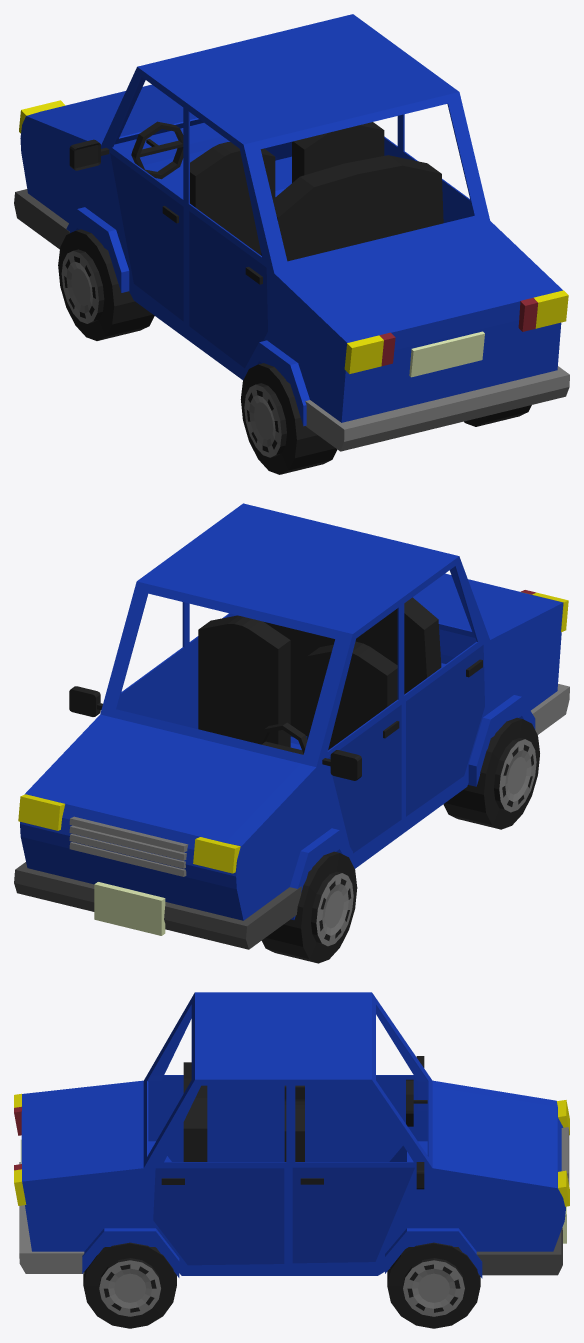
File: Coche.fbx
3 renders of one model, top to bottom at view 1: azimuth 30°, elevation 25°; view 2: azimuth 150°, elevation 25°; view 3: azimuth 270°, elevation 25°, orthographic. The views are drawn at different scales.
Parts seen in each view (by area): view 1: Cube.165, Plane, Cube.183, Cube.166, Cylinder.008, Cylinder.009, Cube.181, Cube.182, Cube.167, Cube.172, Cube.179, Cube.173 (+3 smaller); view 2: Cube.165, Plane, Cube.182, Cube.171, Cube.183, Cylinder.009, Cylinder.008, Cube.181, Cube.180, Cube.168, Cube.173, Cube.170 (+7 smaller); view 3: Cube.165, Plane.001, Cylinder.006, Cylinder.007, Cube.171, Cube.172, Cube.173, Cube.166, Cube.183, Cube.182, Cube.167, Cube.168 (+1 smaller).
Boxes of the visible parts, box(x1,y1,x2,y2) form: Cube.165: box(20, 14, 562, 422); Plane: box(110, 153, 267, 368); Cube.183: box(261, 155, 443, 261); Cube.166: box(305, 366, 569, 451); Cylinder.008: box(58, 229, 154, 340); Cylinder.009: box(240, 363, 337, 474); Cube.181: box(190, 142, 275, 254); Cube.182: box(292, 122, 384, 182); Cube.167: box(344, 290, 568, 373); Cube.172: box(66, 156, 291, 292); Cube.179: box(409, 331, 484, 377); Cube.173: box(245, 340, 309, 426); Cube.165: box(20, 503, 563, 920); Plane: box(328, 645, 484, 853); Cube.182: box(198, 615, 290, 747); Cube.171: box(14, 862, 301, 949); Cube.183: box(264, 597, 441, 735); Cylinder.009: box(443, 717, 539, 829); Cylinder.008: box(261, 851, 357, 963); Cube.181: box(307, 641, 397, 750); Cube.180: box(94, 882, 165, 935); Cube.168: box(18, 794, 240, 873); Cube.173: box(290, 695, 535, 786); Cube.170: box(69, 686, 361, 780); Cube.165: box(21, 992, 565, 1275); Plane.001: box(153, 1167, 414, 1265); Cylinder.006: box(387, 1242, 480, 1328); Cylinder.007: box(83, 1242, 176, 1328); Cube.171: box(476, 1228, 562, 1275); Cube.172: box(385, 1141, 482, 1278); Cube.173: box(82, 1141, 179, 1277); Cube.166: box(19, 1162, 84, 1273); Cube.183: box(183, 1062, 207, 1161); Cube.182: box(284, 1099, 304, 1161); Cube.167: box(14, 1093, 26, 1205); Cube.168: box(557, 1100, 569, 1206).
Bounding box in the file's own units: 422 × 413 × 850.
